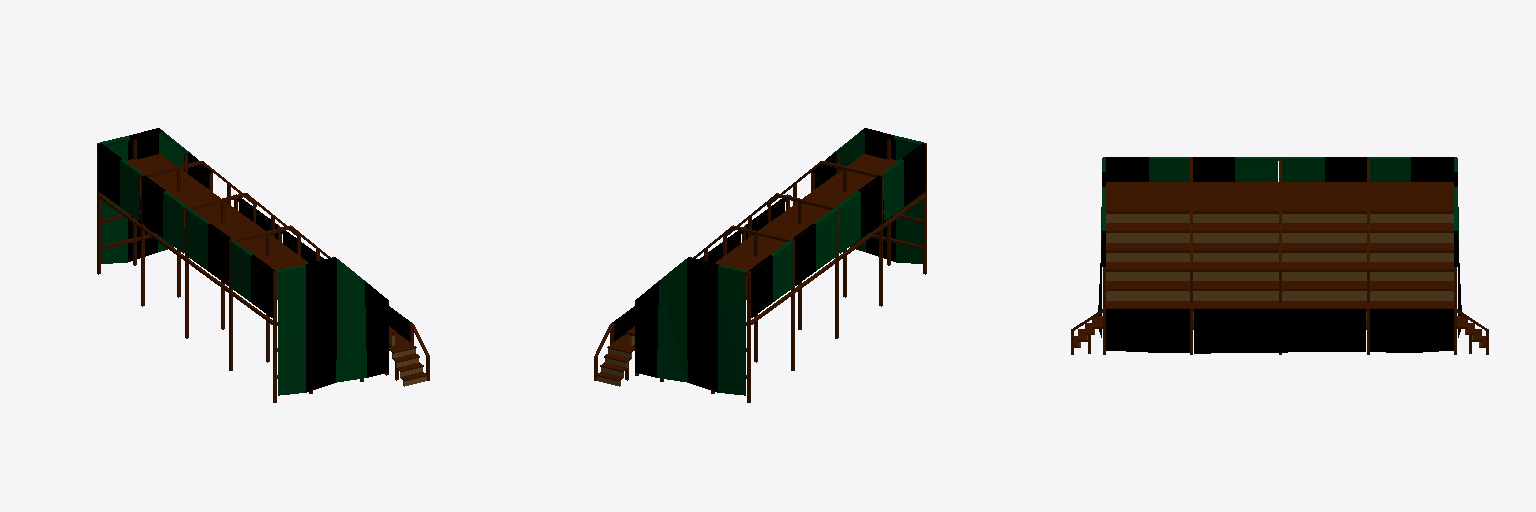
The model's file is Platform_black_green.obj.
The picture shows the model from 3 angles: view 1: azimuth 30°, elevation 25°; view 2: azimuth 150°, elevation 25°; view 3: azimuth 270°, elevation 25°; orthographic projection.
Parts seen in each view (by area): view 1: Platform_01; view 2: Platform_01; view 3: Platform_01.
Boxes of the visible parts, box(x1,y1,x2,y2) form: Platform_01: box(97, 128, 429, 402); Platform_01: box(594, 128, 926, 402); Platform_01: box(1071, 157, 1488, 354).
Bounding box in the file's own units: 5.63 × 4.96 × 14.4.